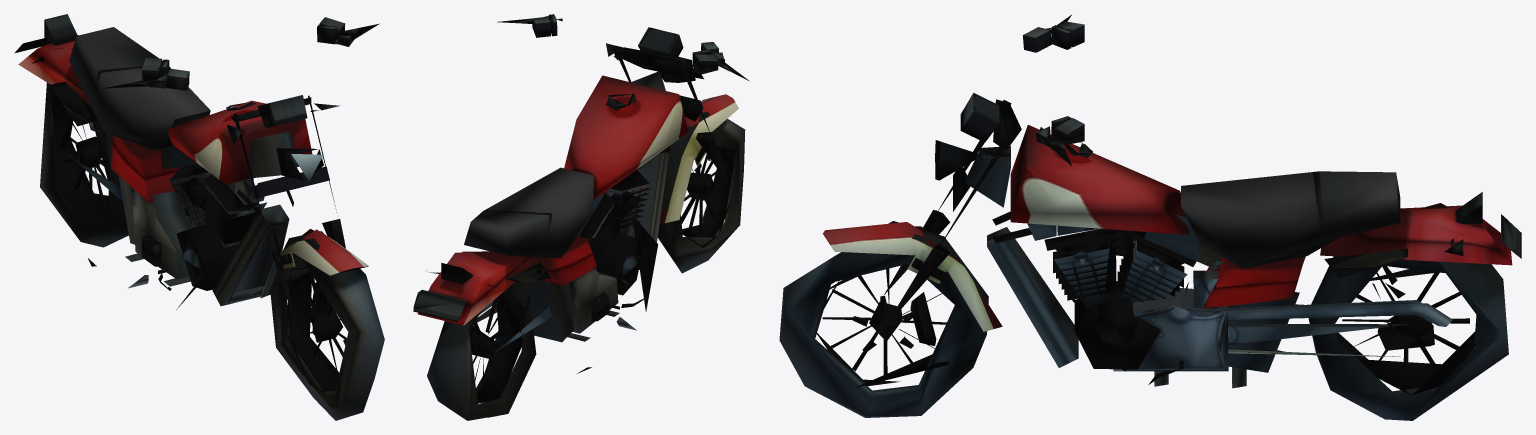
The model's file is motorcycle_lo.glb.
The picture shows the model from 3 angles, left to right: view 1: azimuth 30°, elevation 25°; view 2: azimuth 150°, elevation 25°; view 3: azimuth 270°, elevation 25°; orthographic projection. The views are drawn at different scales.
Parts seen in each view (by area): view 1: motorcycle.1; view 2: motorcycle.1; view 3: motorcycle.1.
Boxes of the visible parts, x1,y1,x2,y2 form: motorcycle.1: [14, 14, 384, 420]; motorcycle.1: [413, 14, 748, 420]; motorcycle.1: [779, 14, 1521, 420].
Bounding box in the file's own units: 0.4775 × 0.5129 × 0.9988.
Materials: 1 (1 with a texture image).
